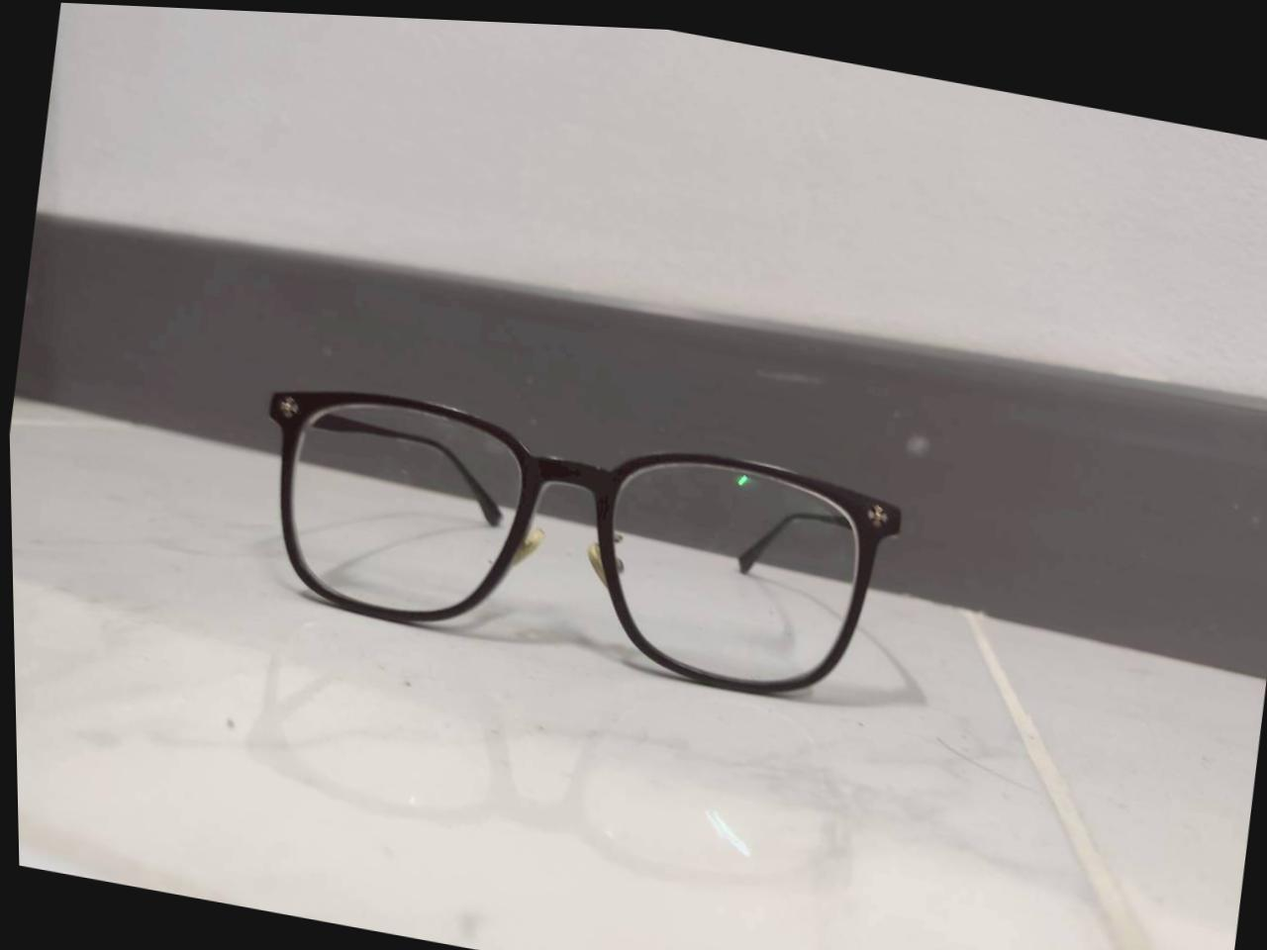glasses: (229, 362, 917, 742)
